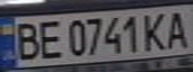0: (63, 16, 87, 57)
1: (121, 12, 142, 53)
4: (103, 14, 124, 54)
7: (81, 15, 106, 55)
A: (163, 7, 193, 51)
B: (9, 19, 42, 61)
E: (33, 17, 63, 61)
K: (139, 9, 172, 52)
